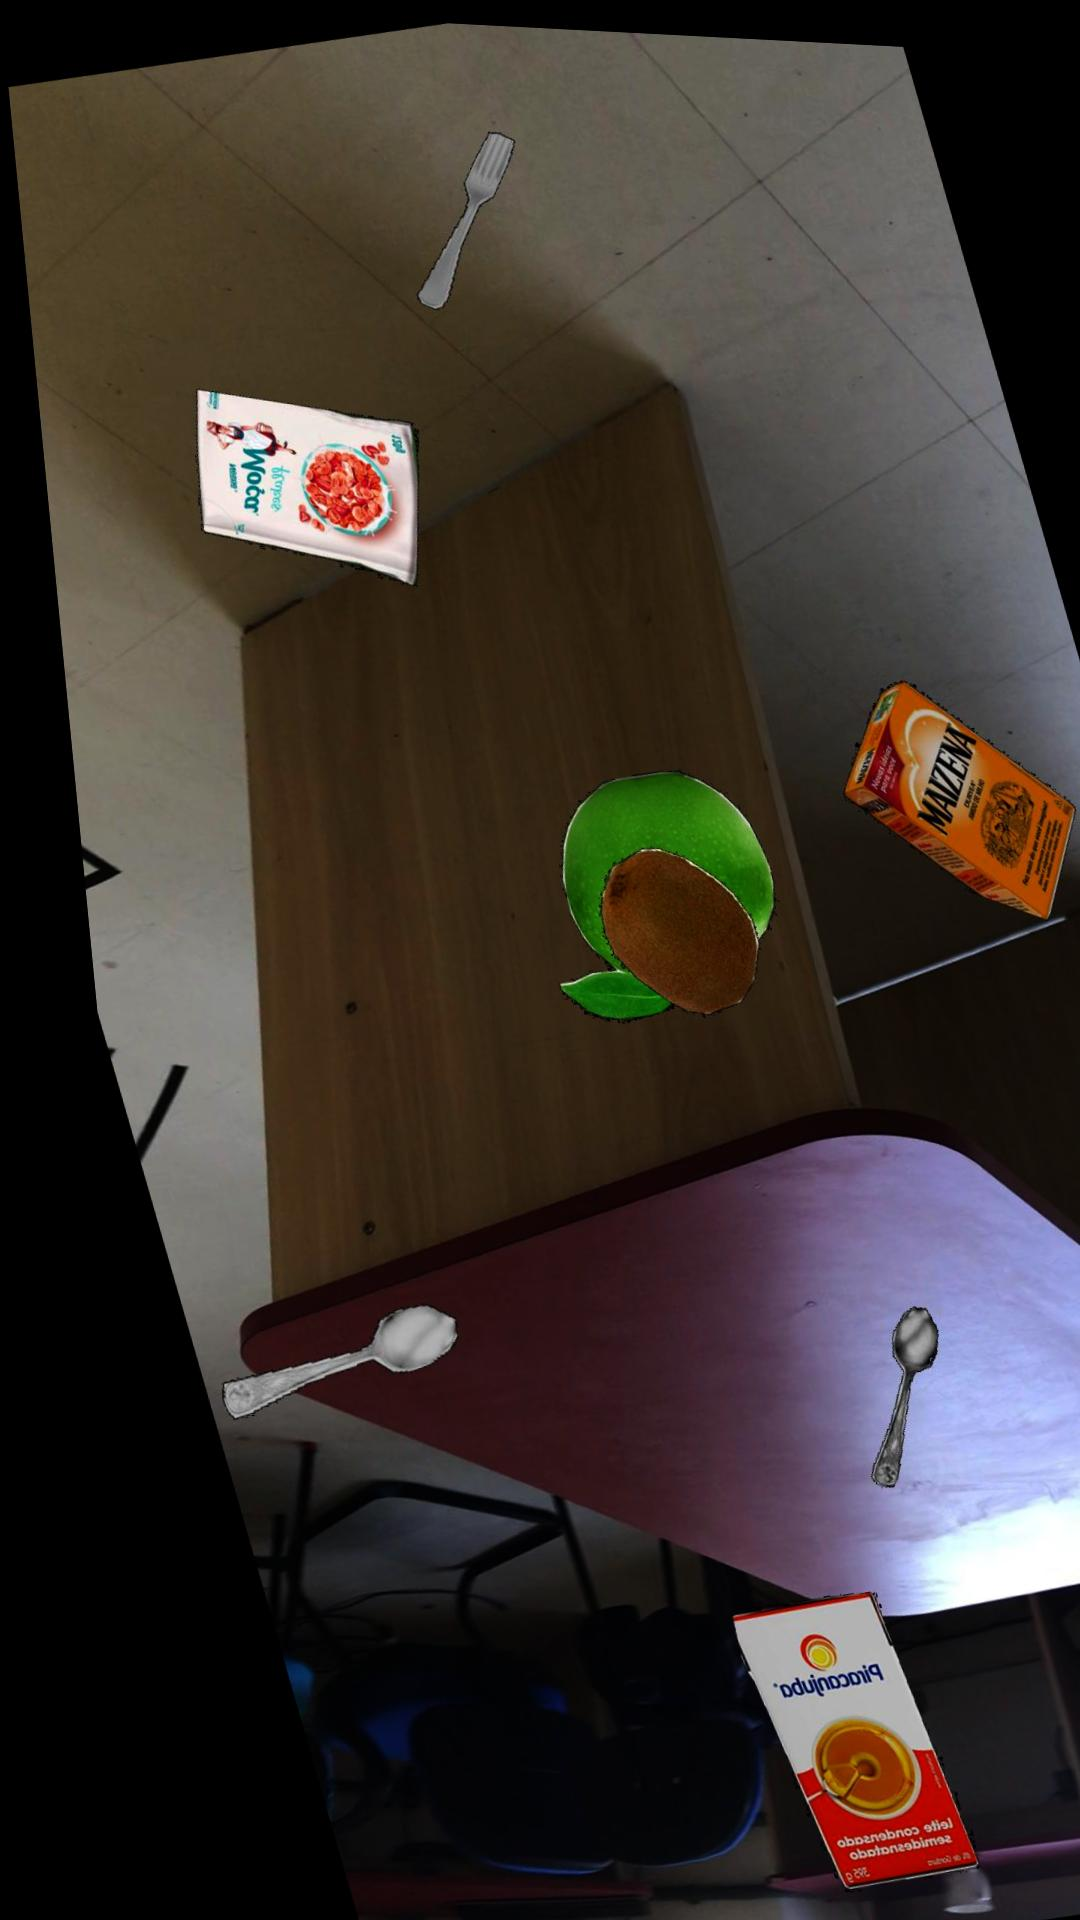corn flakes: (186, 389, 409, 584)
fork: (410, 128, 512, 307)
green apple: (538, 766, 758, 1019)
kiwi: (580, 843, 741, 1013)
spoon: (193, 1302, 431, 1420), (841, 1299, 911, 1481)
